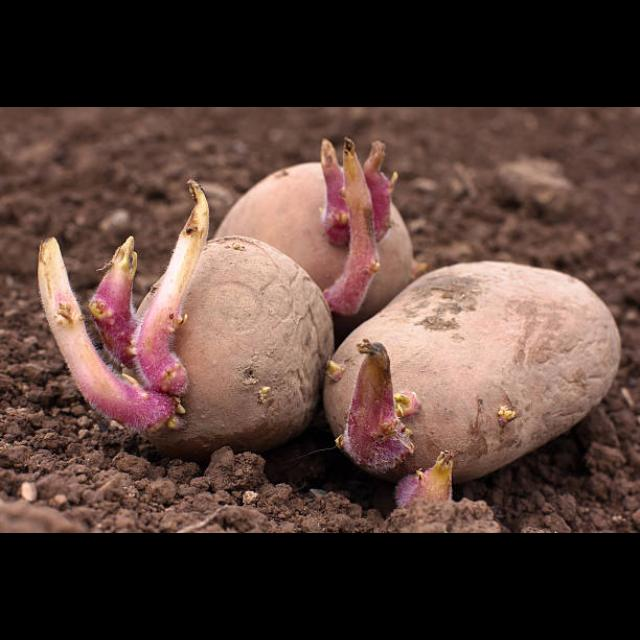Sprouted potato: (252, 237, 638, 488), (24, 193, 332, 452), (196, 123, 422, 371)
